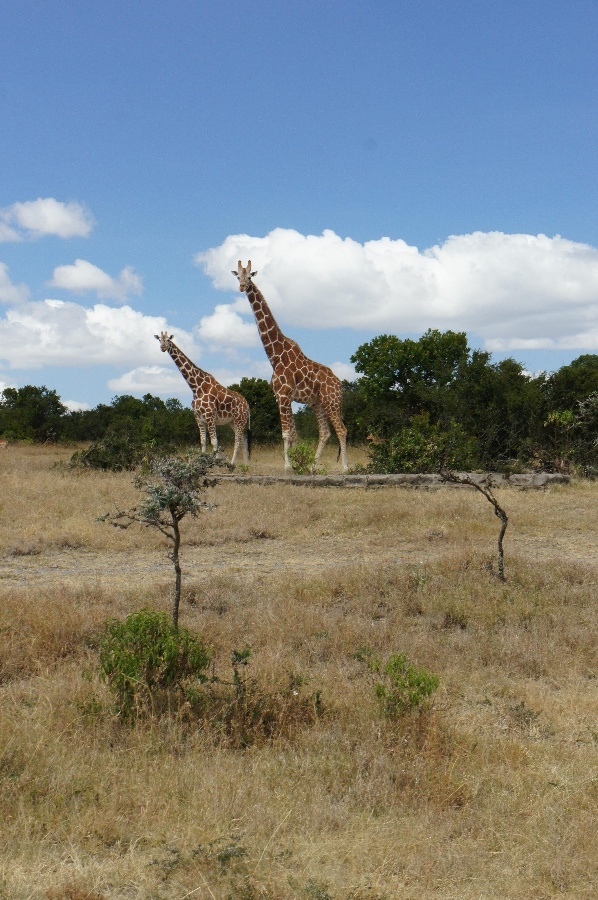giraffe: (226, 251, 363, 479), (150, 322, 261, 474)
